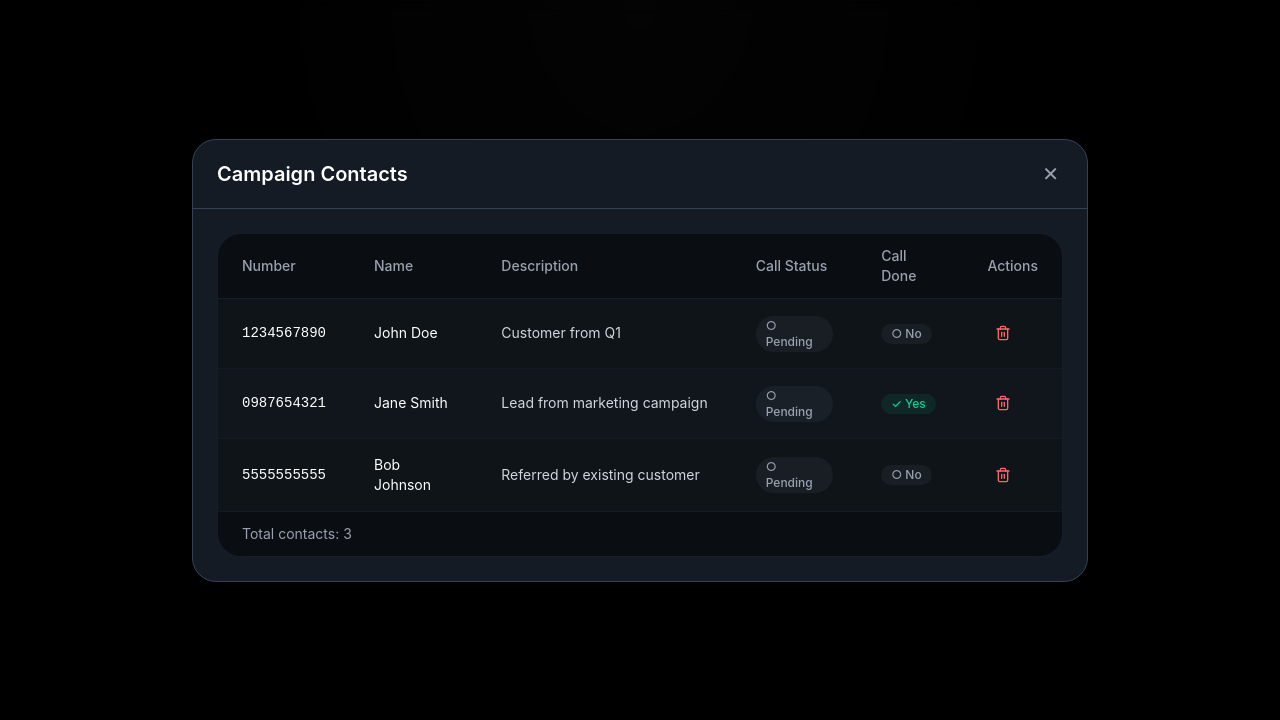
CampaignContactsModal Component › Delete Functionality › should remove contact from list after successful deletion
The width and height of the screenshot is (1280, 720).
Check: the text "Total contacts: 3" is shown, box [218,510,1062,556]
Click the button titled "Delete contact" in the row of "1234567890" at (1003, 333), box [987,317,1019,349]
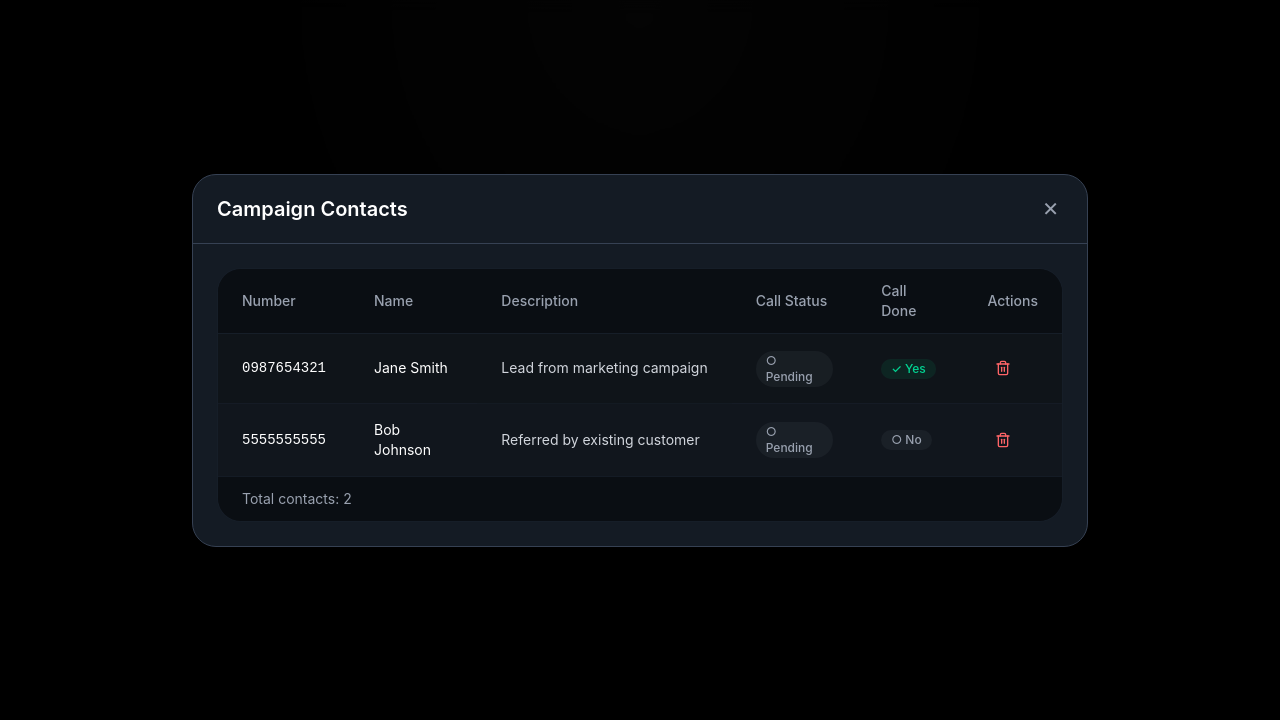
Check: the text "John Doe" is gone
Check: the text "Total contacts: 2" is shown, box [218,476,1062,520]
